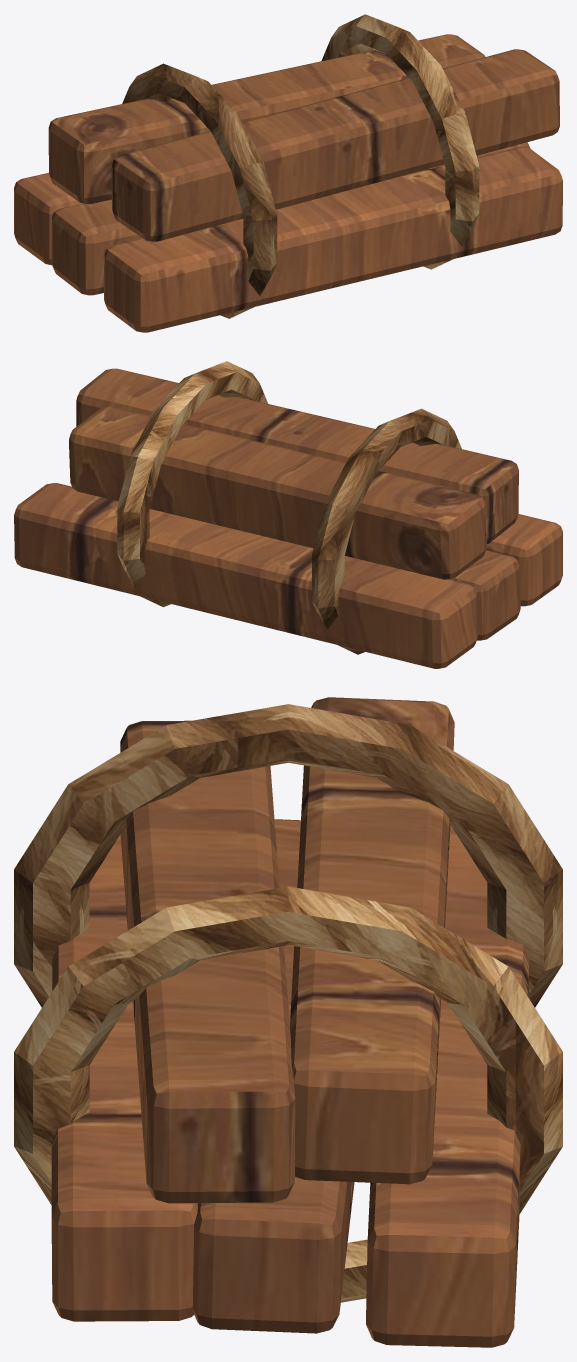
Rendered from plank_root.glb.
3 renders of one model, top to bottom at view 1: azimuth 30°, elevation 25°; view 2: azimuth 150°, elevation 25°; view 3: azimuth 270°, elevation 25°, orthographic. The views are drawn at different scales.
Visible parts, largest first — view 1: model; view 2: model; view 3: model.
Part boxes in pixels (x1,y1,x2,y2): model: [14, 14, 562, 332]; model: [14, 361, 562, 668]; model: [14, 697, 562, 1347].
Size of the model in its own units: 0.3636 by 0.174 by 0.2036.
Materials: 4 (4 with a texture image).
